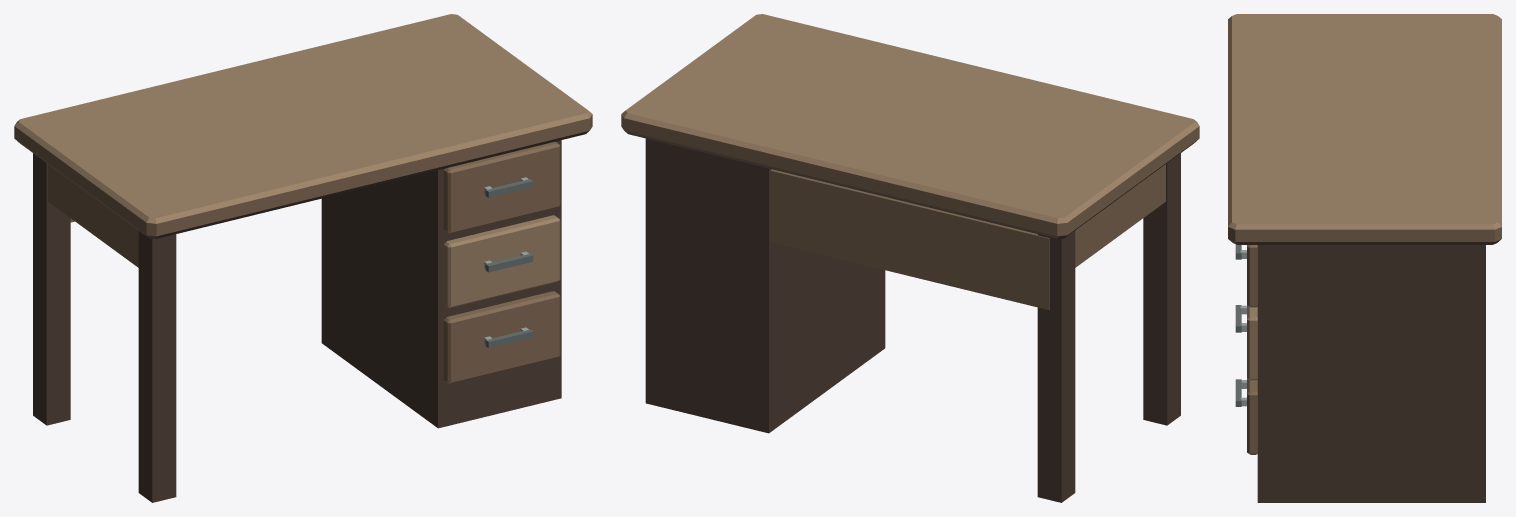
File: Turner_OldDesk.fbx
3 views of the same model, side by side, from view 1: azimuth 30°, elevation 25°; view 2: azimuth 150°, elevation 25°; view 3: azimuth 270°, elevation 25° (orthographic).
Visible parts, largest first — view 1: Turner_OldDesk; view 2: Turner_OldDesk; view 3: Turner_OldDesk.
Part boxes in pixels (x1=…): Turner_OldDesk: x1=14, y1=14, x2=592, y2=502; Turner_OldDesk: x1=621, y1=14, x2=1199, y2=502; Turner_OldDesk: x1=1228, y1=14, x2=1501, y2=502.
Bounding box in the file's own units: 1.2 × 0.75 × 0.65.
